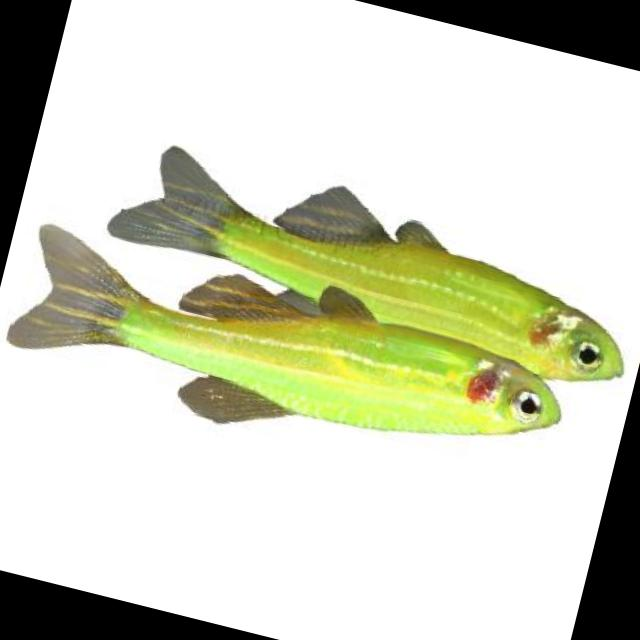ZebraFish: (0, 212, 570, 501), (120, 143, 640, 401)
